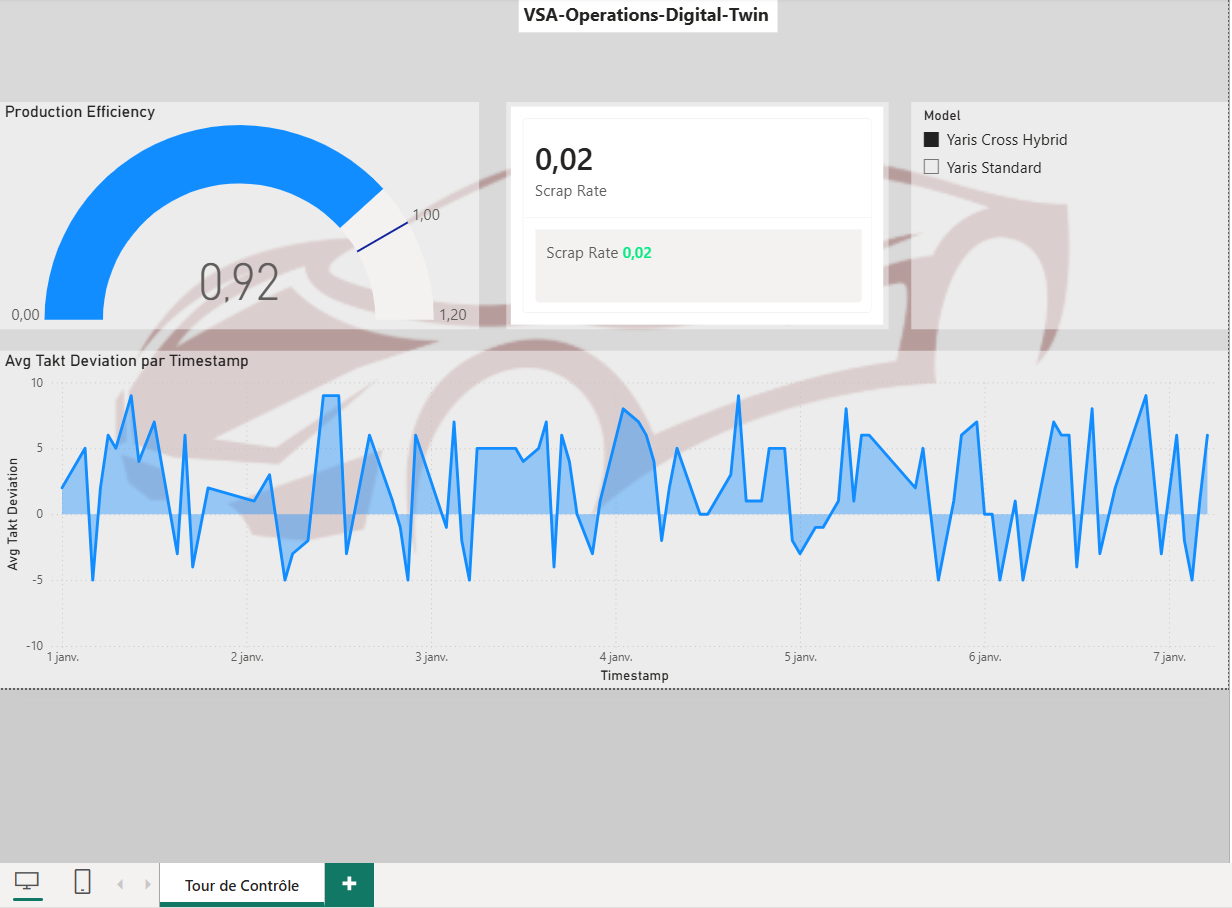

What the dashboard file says about the page in this screenshot:
{"tool":"powerbi","page":{"name":"Tour de Contrôle","canvas":[1280,720],"ordinal":0},"visuals":[{"type":"gauge","fields":{"Y":["Fact_Stamping.Production Efficiency"]},"box":[0,109.4,498.8,237],"z":0},{"type":"areaChart","fields":{"Y":["Fact_Assembly.Avg Takt Deviation"],"Category":["Fact_Assembly.Timestamp"]},"box":[0,368.6,1280.3,351.6],"z":1000},{"type":"slicer","fields":{"Values":["Fact_Assembly.Model"]},"box":[949.5,109.4,330.8,237],"z":2000},{"type":"textbox","box":[540.5,0,269.6,36.5],"z":3000},{"type":"cardVisual","fields":{"Data":["Fact_Stamping.Scrap Rate"]},"box":[527.5,109.4,398.5,237],"z":4000}]}

Visuals, with their boxes on the page's 1280x720 design canvas (x1, y1, x2, y2). These are canvas units, not pixel positions in the 1232x908 screenshot, which may show the page scaled, cropped or inside an application window:
gauge - Fact_Stamping.Production Efficiency: crop(0, 109, 499, 346)
areaChart - Fact_Assembly.Avg Takt Deviation x Fact_Assembly.Timestamp: crop(0, 369, 1280, 720)
slicer - Fact_Assembly.Model: crop(950, 109, 1280, 346)
textbox: crop(540, 0, 810, 36)
cardVisual - Fact_Stamping.Scrap Rate: crop(528, 109, 926, 346)
